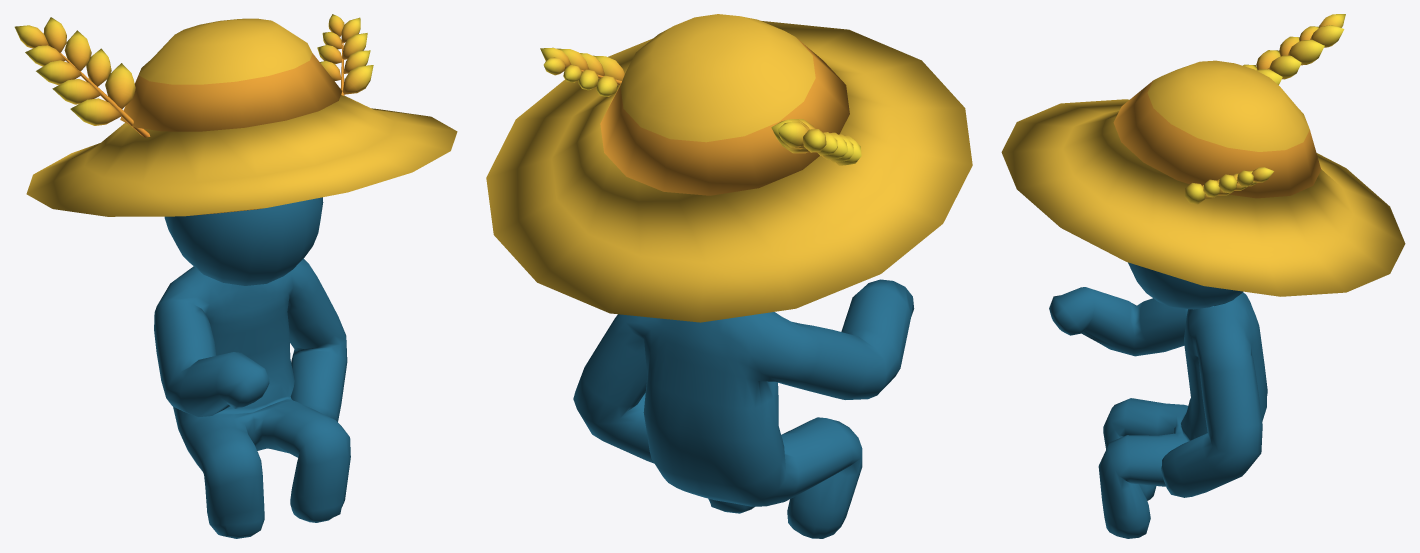
The model's file is driver farmer 1.fbx.
The picture shows the model from 3 angles, left to right: view 1: azimuth 30°, elevation 25°; view 2: azimuth 150°, elevation 25°; view 3: azimuth 270°, elevation 25°; orthographic projection. The views are drawn at different scales.
Parts seen in each view (by area): view 1: Farmer Hatt, stick_oguz; view 2: Farmer Hatt, stick_oguz; view 3: Farmer Hatt, stick_oguz.
Part boxes in pixels (bbox=[...]): Farmer Hatt: bbox=[14, 14, 457, 216]; stick_oguz: bbox=[154, 197, 350, 538]; Farmer Hatt: bbox=[486, 14, 972, 322]; stick_oguz: bbox=[573, 279, 914, 538]; Farmer Hatt: bbox=[1001, 14, 1405, 296]; stick_oguz: bbox=[1049, 262, 1267, 538].
Bounding box in the file's own units: 1.35 × 1.59 × 1.31.
